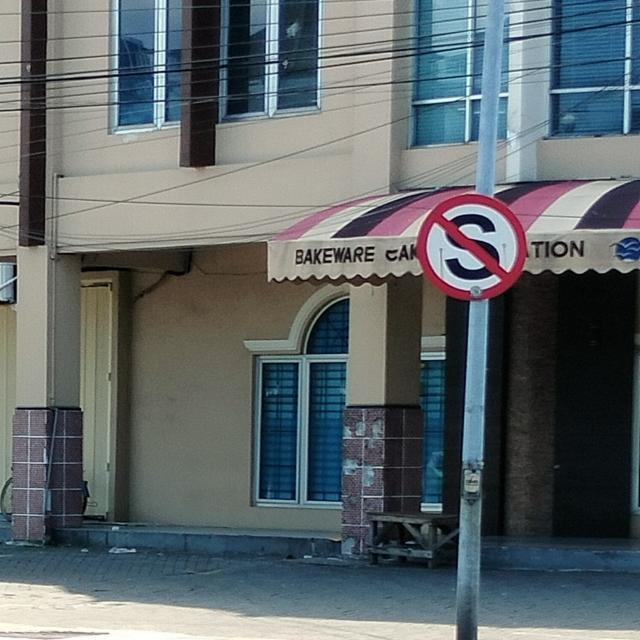Dilarang Berhenti: (415, 192, 527, 299)
